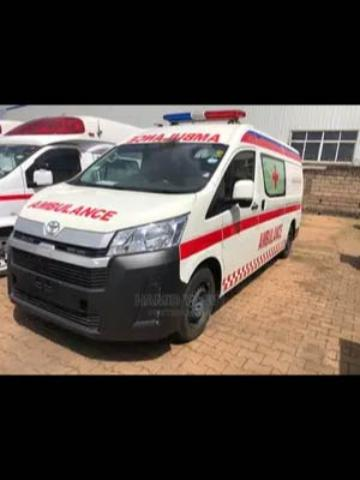van: (9, 108, 302, 342)
